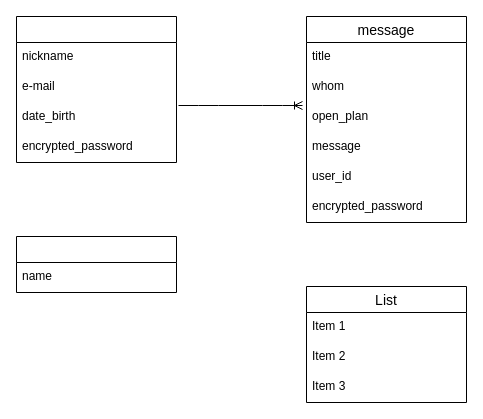
Image size: 483x419. Some labels were removed from this diagram. Here are the shapes that lost their labels. From the top down, the box of each, then its label:
(16, 16, 176, 162): user
(16, 236, 176, 292): tag
